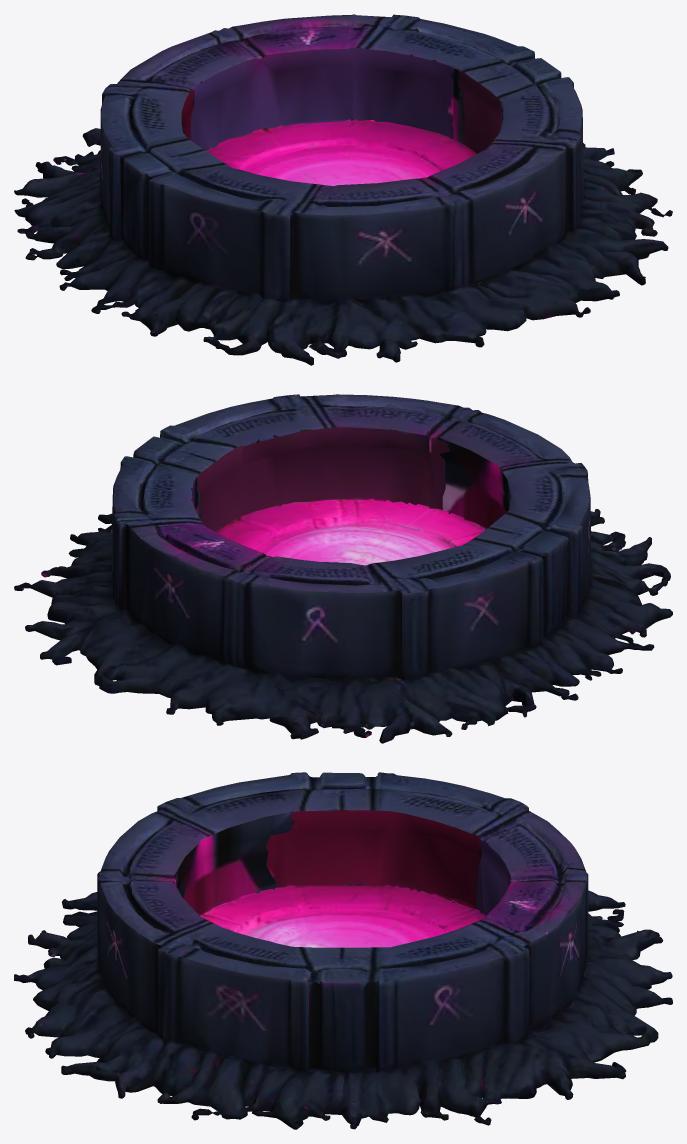
File: yggdrasil-dais.collider.glb
The picture shows the model from 3 angles, top to bottom: view 1: azimuth 30°, elevation 25°; view 2: azimuth 150°, elevation 25°; view 3: azimuth 270°, elevation 25°; orthographic projection. The views are drawn at different scales.
Visible parts, largest first — view 1: temp_mesh.ply; view 2: temp_mesh.ply; view 3: temp_mesh.ply.
Part boxes in pixels (box(x1,y1,x2,y2)): temp_mesh.ply: box(14, 14, 672, 365); temp_mesh.ply: box(14, 394, 672, 743); temp_mesh.ply: box(14, 772, 672, 1129).
Size of the model in its own units: 1.97 by 0.39 by 1.97.
1 material, 1 textured.
